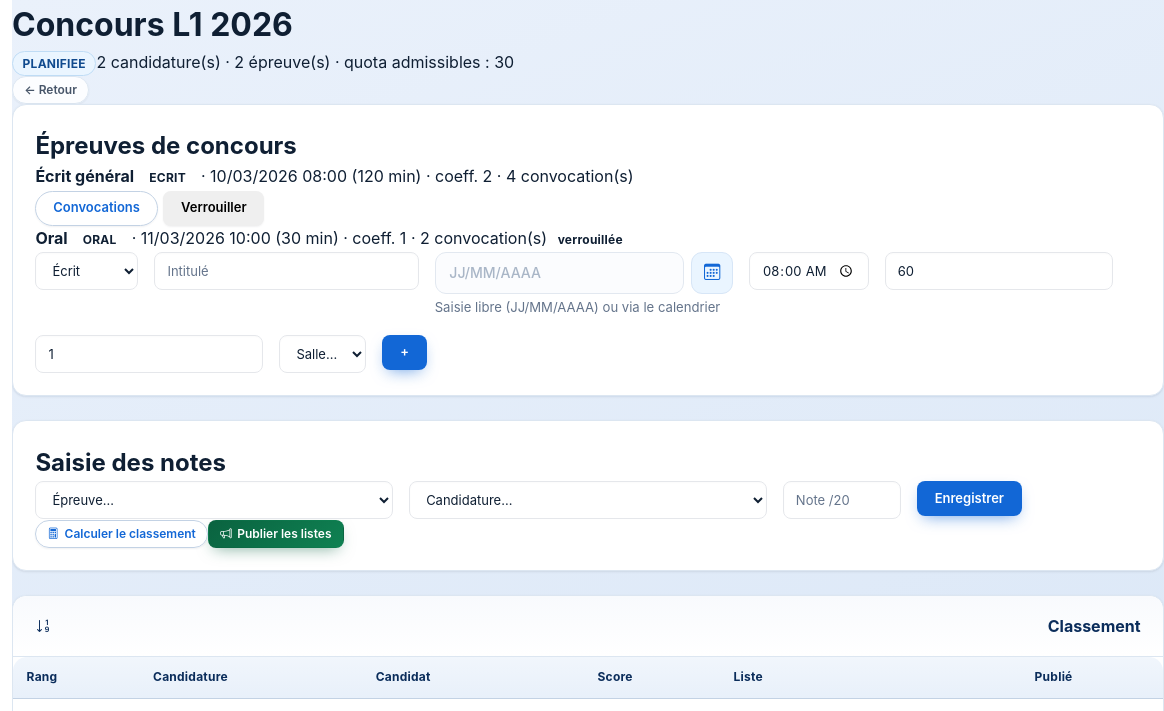
Test: CampagneDetail — ajout d’épreuve › sur échec, affiche le détail JSON du serveur et conserve le formulaire
Check: the heading "Concours L1 2026" is shown, box top-left (12, 5), bottom-right (293, 44)
Type "Conflit" into the field with placeholder "Intitulé" at (287, 271), box top-left (154, 252), bottom-right (419, 290)
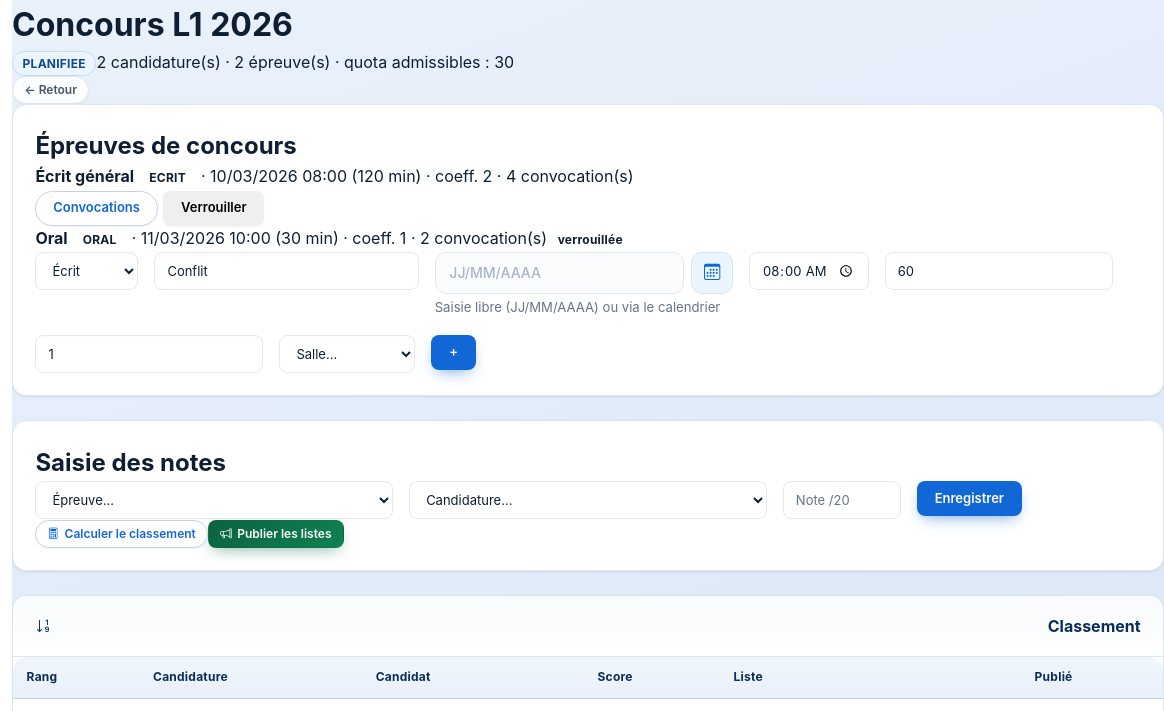
Type "10/03/2026" into the field with placeholder "JJ/MM/AAAA" at (559, 273), box top-left (435, 252), bottom-right (684, 294)
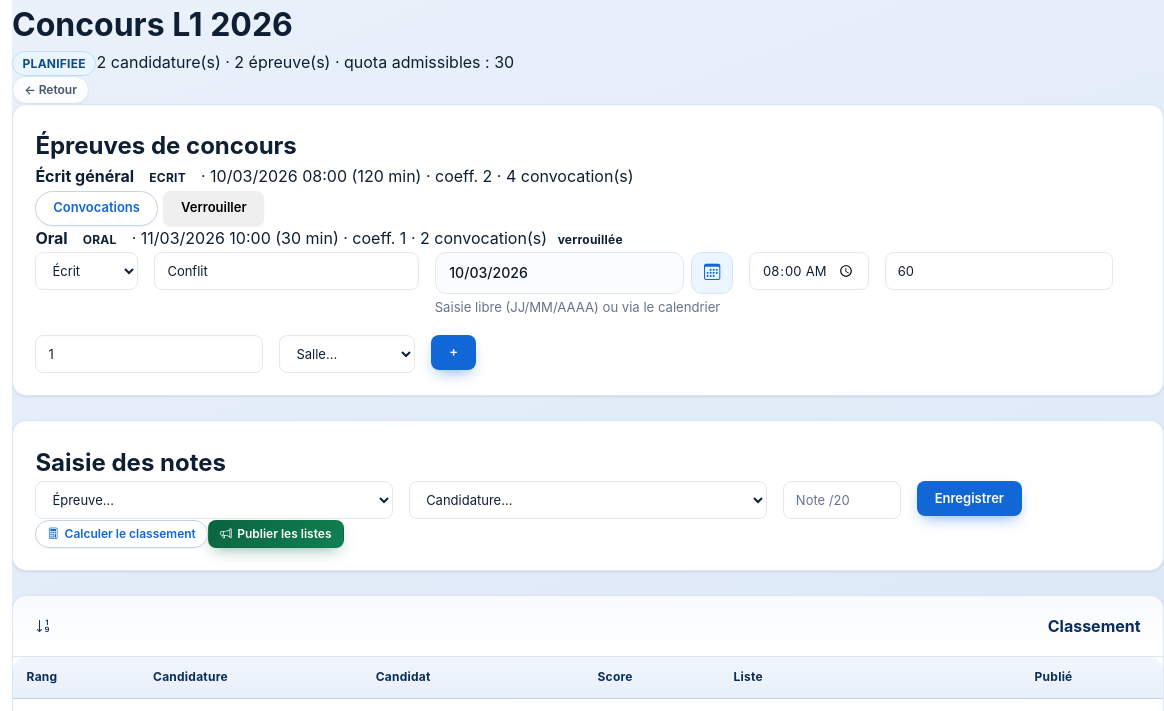
Click the button "+" at (454, 352), box top-left (431, 335), bottom-right (476, 370)
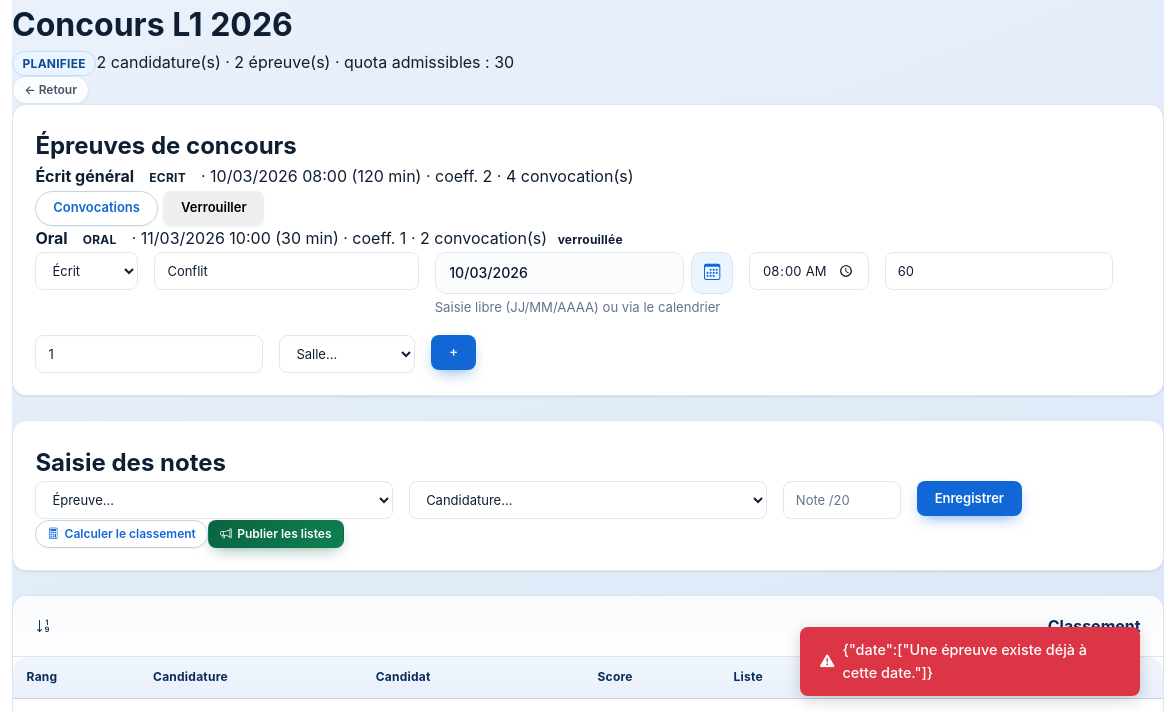
Check: the text "{\"date\":[\"Une épreuve existe déjà à cette date.\"]}" is shown, box top-left (800, 627), bottom-right (1140, 696)
